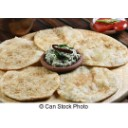poori: (72, 30, 128, 67), (58, 69, 119, 101), (1, 68, 59, 99), (1, 38, 44, 67), (35, 24, 77, 46)
